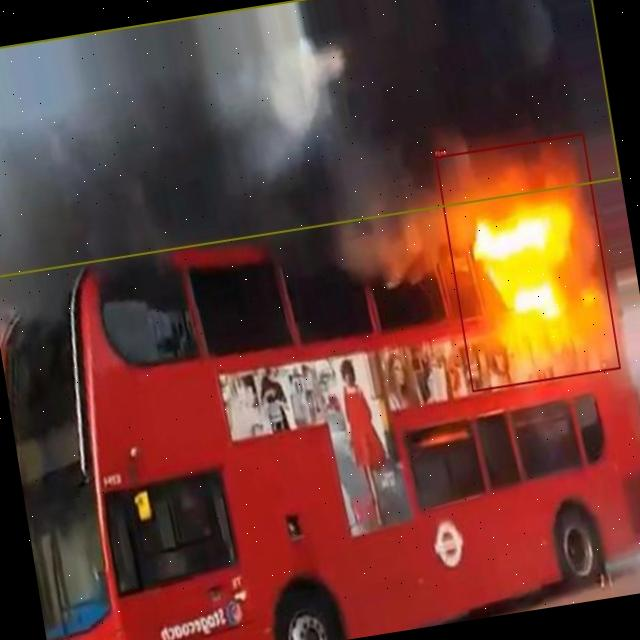fire: (436, 132, 622, 392)
smoke: (0, 0, 621, 279)
